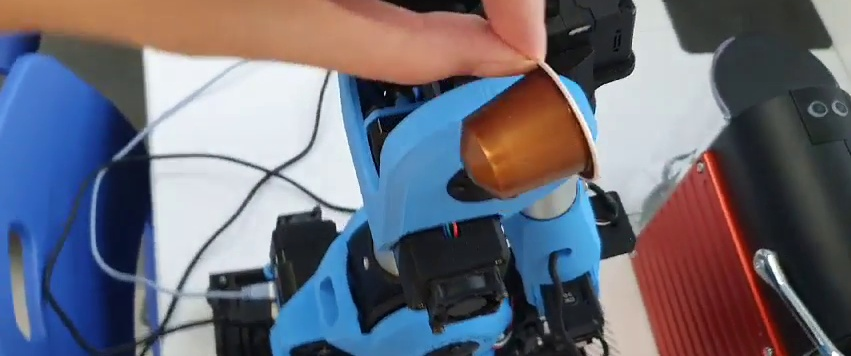capsule_3: (460, 57, 600, 197)
